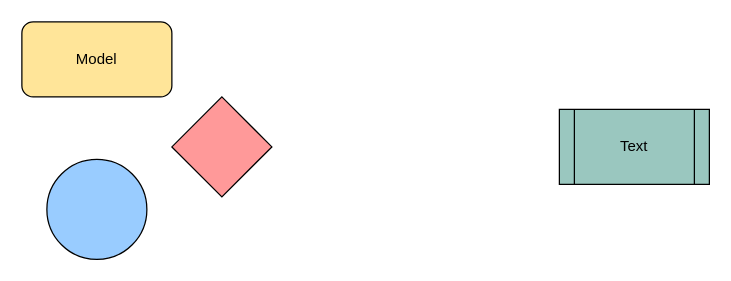
Some shapes in this 731 by 281 pixel diagram are drawn without their labels. Here are the shapes that lost their labels. From the top down, the centre of each, then its label:
(221,146): Sampler
(96,208): Decoder
